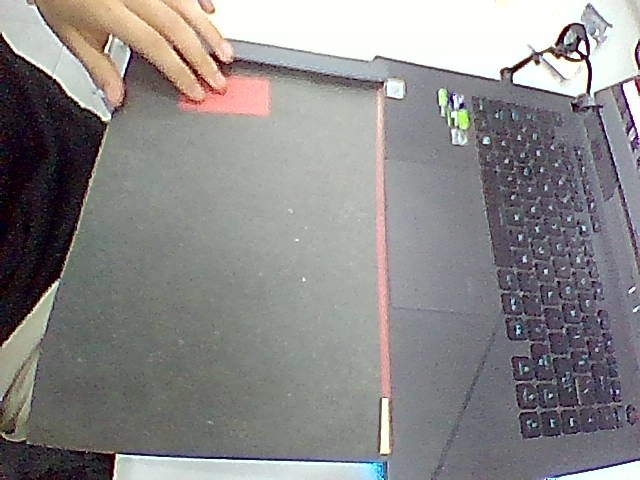card: (180, 75, 270, 116)
